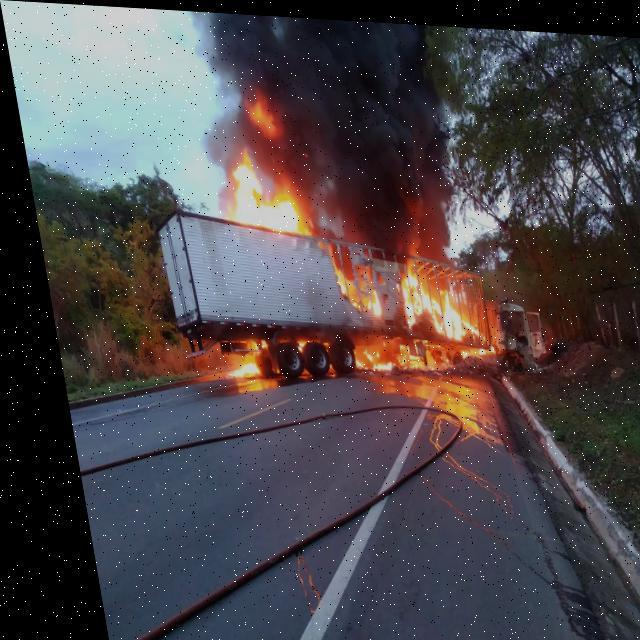Fire: (210, 144, 300, 234), (390, 262, 476, 336), (324, 266, 374, 313), (243, 96, 275, 133), (343, 346, 383, 371), (382, 339, 413, 364), (448, 336, 486, 356), (214, 358, 250, 374)
